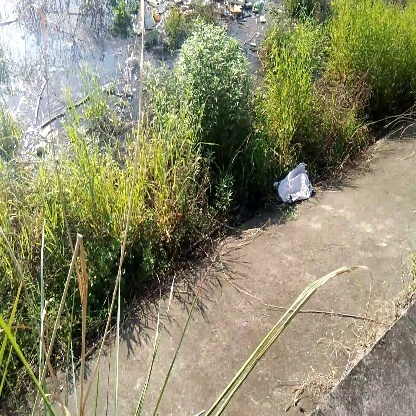plastic-bag: (271, 163, 320, 211)
